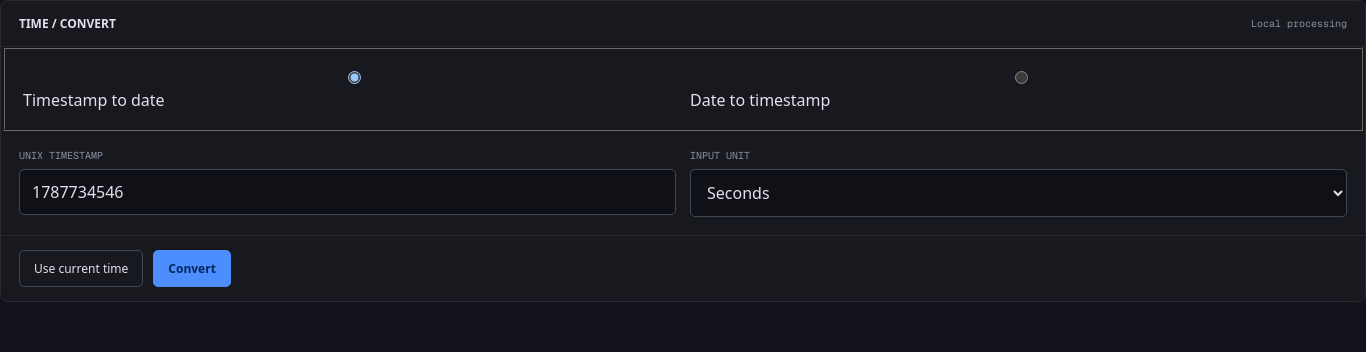
Scenario: TimestampConverter � Level 1 core/common › shows an actionable error for non-numeric input
This screenshot has width=1366, height=352.
Replace the text in the field labelled "Unix timestamp" with "not-a-number" at (348, 192), box [19,169,676,215]
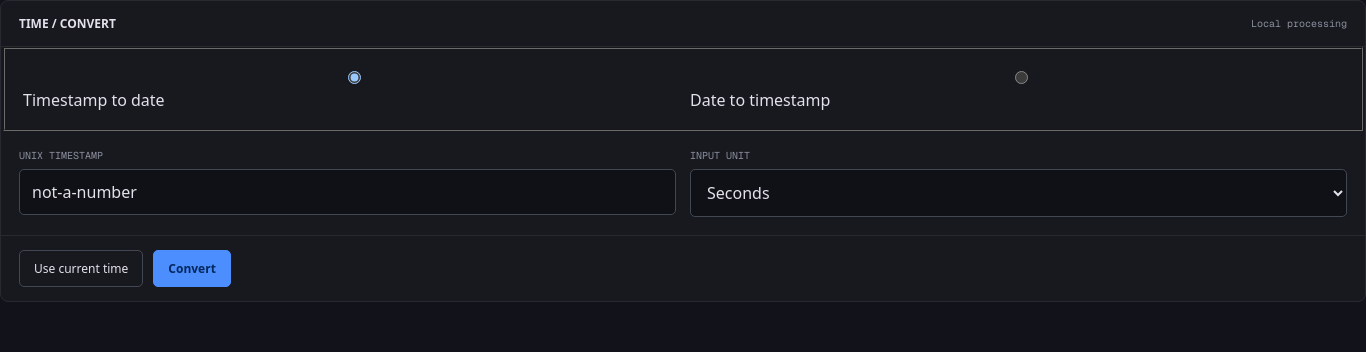
Click the button "Convert" at (192, 268), box [153,250,231,287]
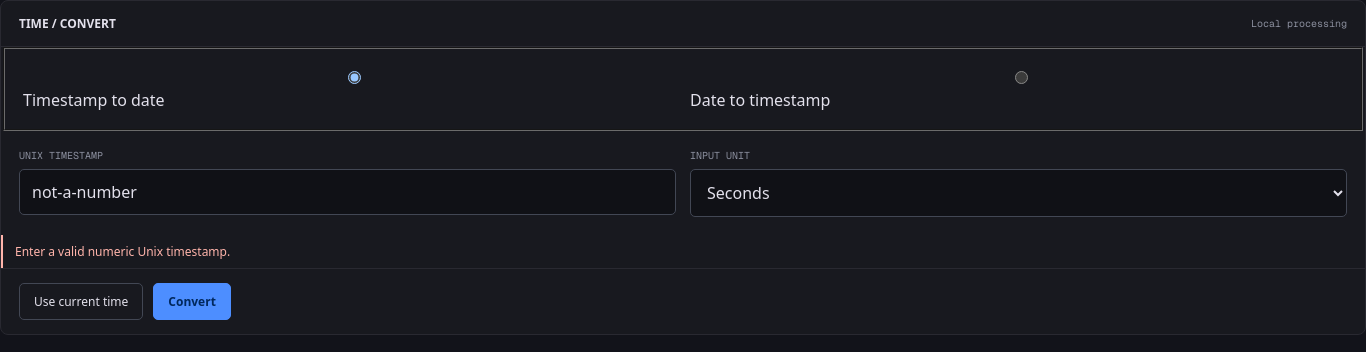
expect the message reads "Enter a valid numeric Unix timestamp.": met, box [15,243,230,260]
